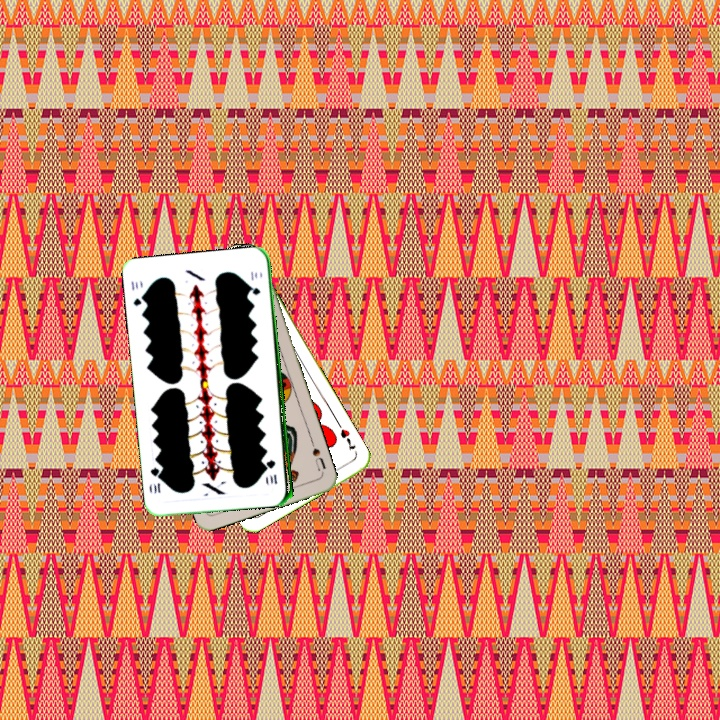G10: (127, 277, 148, 308), (265, 456, 280, 486)
H7: (336, 425, 358, 453)
SU: (307, 437, 328, 473)
